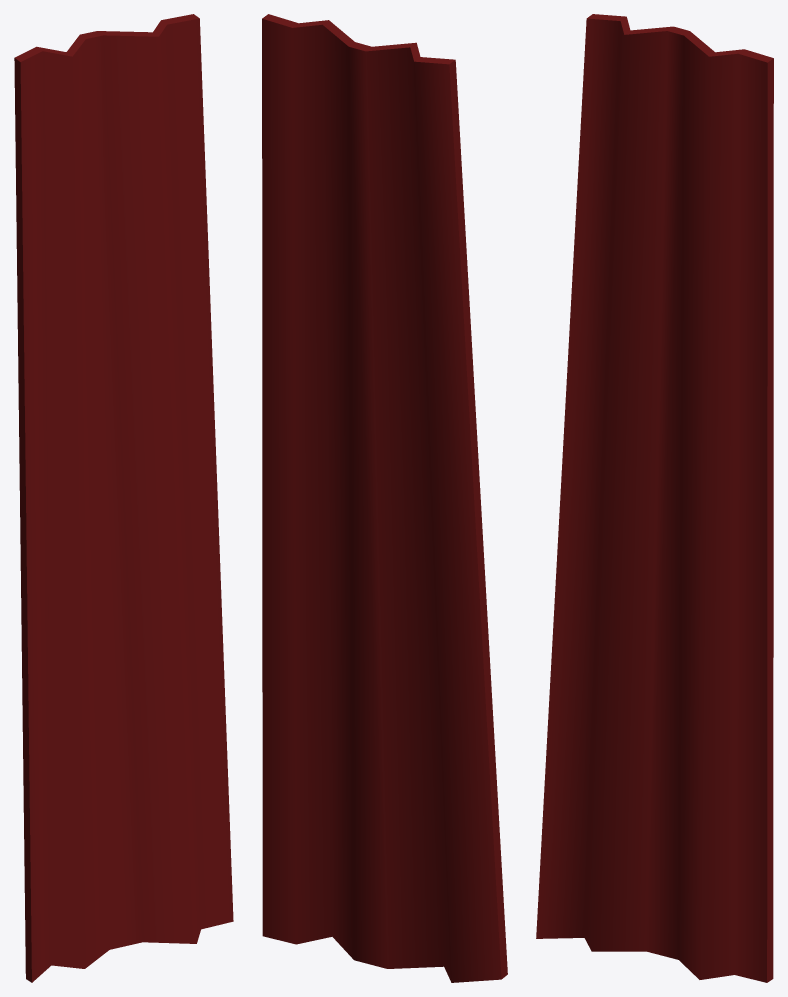
Rendered from F_bossromm_curtain1.fbx.
The picture shows the model from 3 angles, left to right: view 1: azimuth 30°, elevation 25°; view 2: azimuth 150°, elevation 25°; view 3: azimuth 330°, elevation 25°; orthographic projection. The views are drawn at different scales.
Parts seen in each view (by area): view 1: boss_curtain1; view 2: boss_curtain1; view 3: boss_curtain1.
Part boxes in pixels (x1,y1,x2,y2): boss_curtain1: (14,14,233,982); boss_curtain1: (262,14,507,982); boss_curtain1: (536,14,773,982).
Size of the model in its own units: 55.84 by 222 by 20.49.
